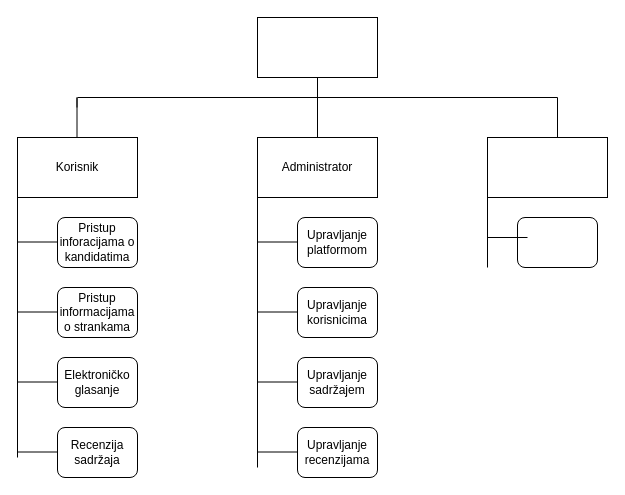
Image size: 625x495. Some labels were removed from this diagram. The shapes that lost their labels are listed below. From the top down, each one's box as (x1, y1, x2, y2) in pixels, then its label:
(256, 16, 378, 78): Izbori
(486, 136, 608, 198): Vlasnik sustava
(516, 216, 598, 268): Pregled izvještaja
